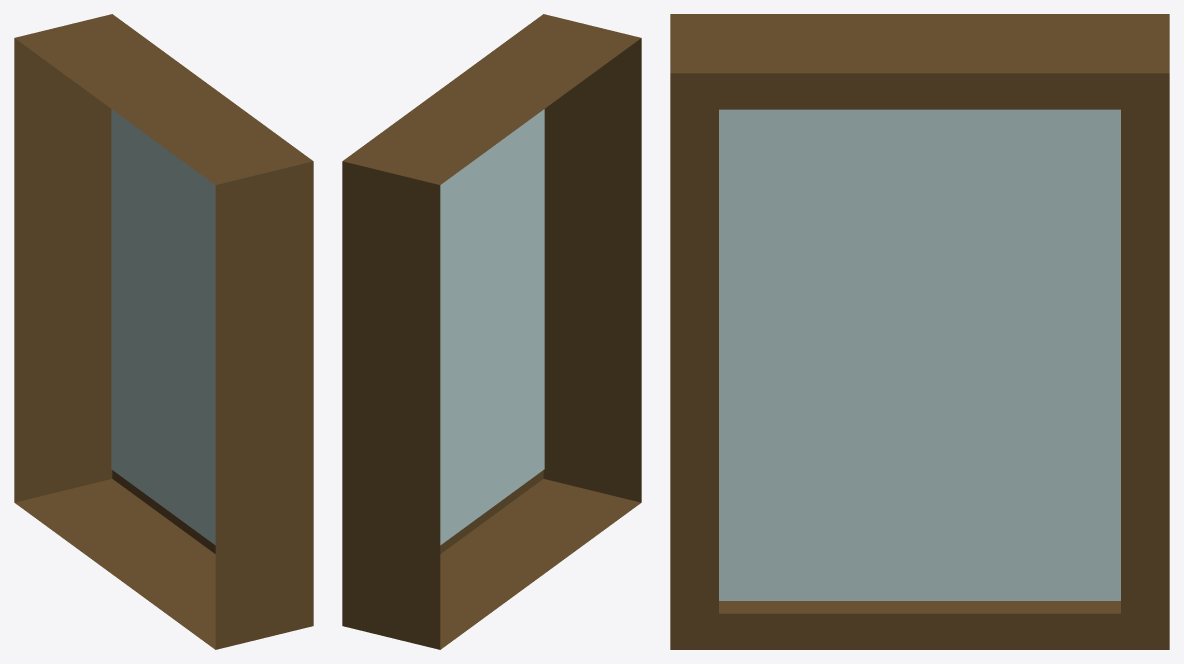
File: window_2_1.fbx
3 renders of one model, left to right at view 1: azimuth 30°, elevation 25°; view 2: azimuth 150°, elevation 25°; view 3: azimuth 270°, elevation 25°, orthographic. The views are drawn at different scales.
Parts seen in each view (by area): view 1: window_2_1; view 2: window_2_1; view 3: window_2_1.
Part boxes in pixels (x1,y1,x2,y2): window_2_1: (14, 14, 313, 649); window_2_1: (342, 14, 641, 649); window_2_1: (670, 14, 1169, 649).
Size of the model in its own units: 49.39 by 224 by 176.
